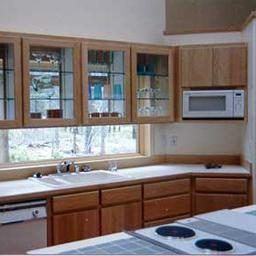Electrodomestico: (1, 199, 51, 254)
Lavaplatos: (34, 159, 130, 193)
